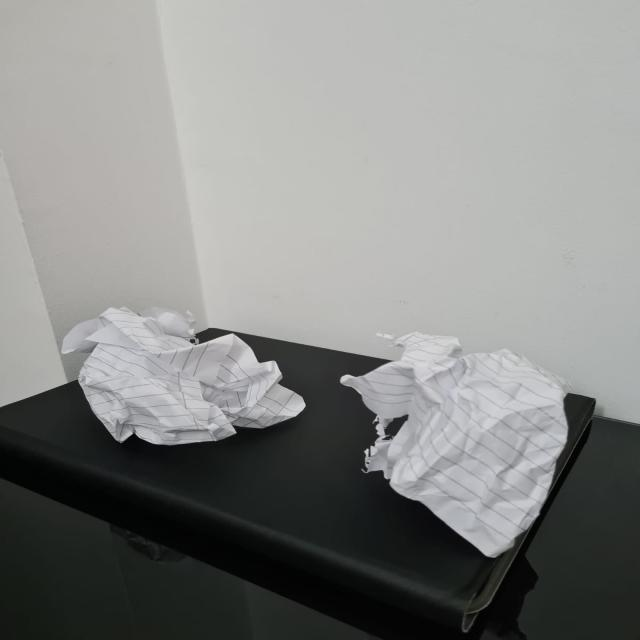Paper: (354, 328, 567, 556), (59, 310, 306, 445)
